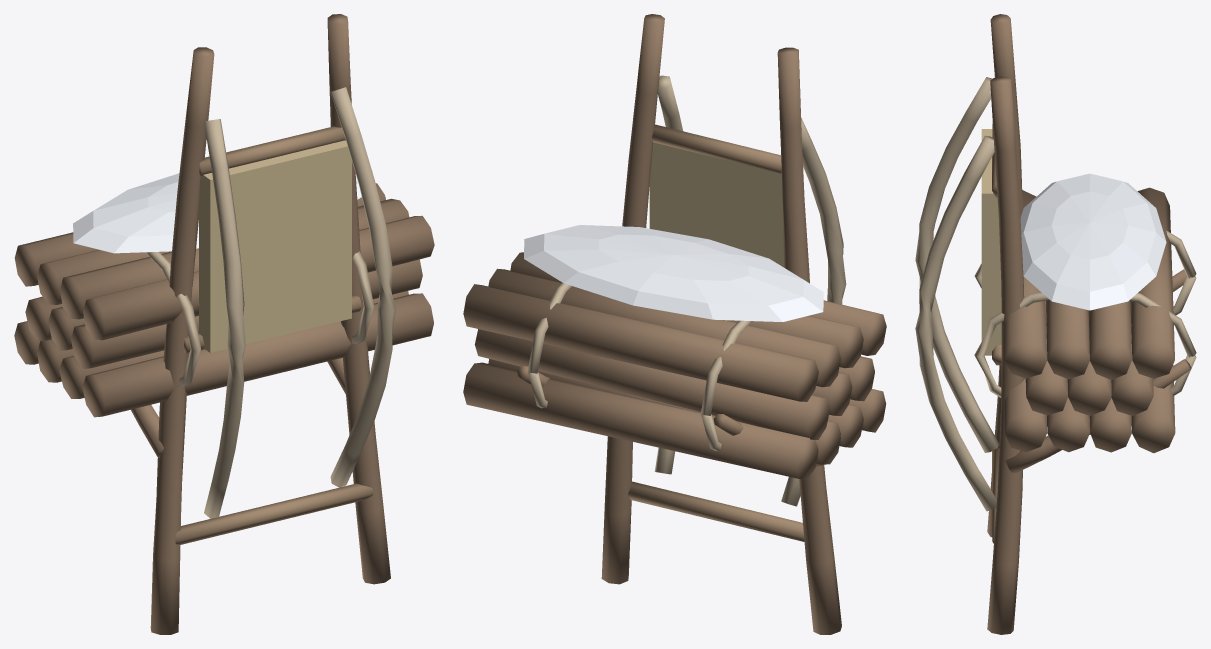
The model's file is JIGE_wood.glb.
The picture shows the model from 3 angles, left to right: view 1: azimuth 30°, elevation 25°; view 2: azimuth 150°, elevation 25°; view 3: azimuth 270°, elevation 25°; orthographic projection. The views are drawn at different scales.
Parts seen in each view (by area): view 1: JIGE, LOAD; view 2: LOAD, JIGE; view 3: LOAD, JIGE.
Boxes of the visible parts, x1=… form: JIGE: x1=131, y1=14, x2=395, y2=634; LOAD: x1=14, y1=170, x2=434, y2=417; LOAD: x1=463, y1=225, x2=886, y2=479; JIGE: x1=517, y1=14, x2=846, y2=634; LOAD: x1=974, y1=173, x2=1196, y2=453; JIGE: x1=915, y1=14, x2=1191, y2=634.
Bounding box in the file's own units: 0.8417 × 1.39 × 0.6611.
